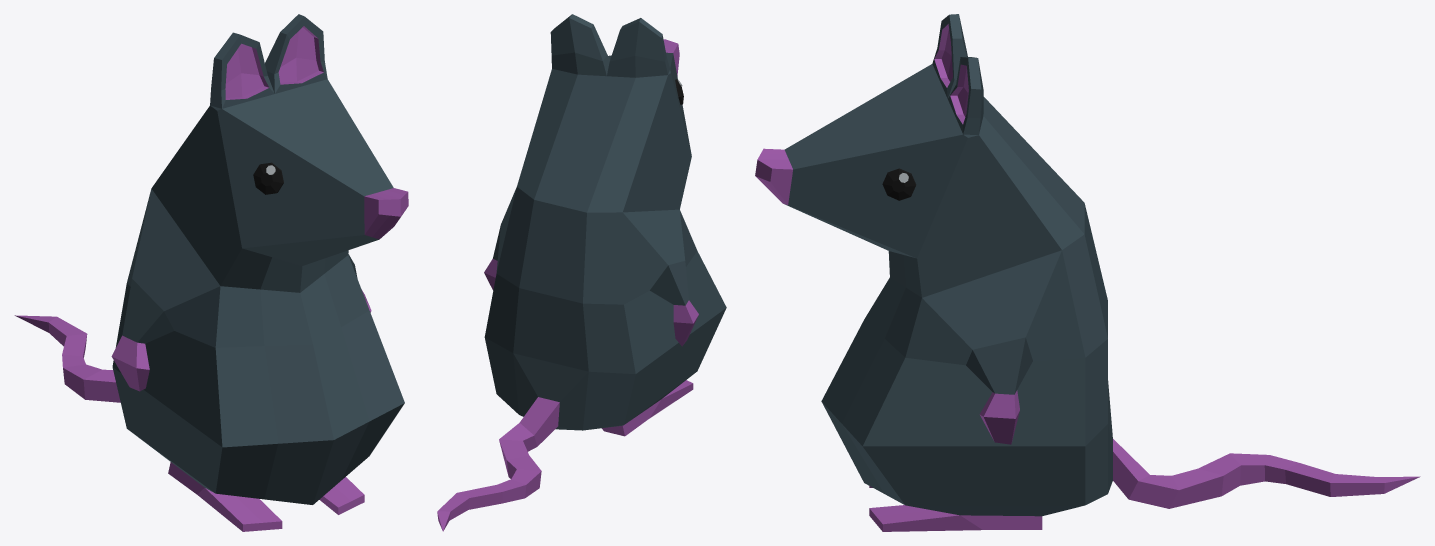
Rendered from Rat_01.fbx.
3 renders of one model, left to right at view 1: azimuth 30°, elevation 25°; view 2: azimuth 150°, elevation 25°; view 3: azimuth 270°, elevation 25°, orthographic. The views are drawn at different scales.
Parts seen in each view (by area): view 1: Rat_01; view 2: Rat_01; view 3: Rat_01.
Part boxes in pixels (x1,y1,x2,y2): Rat_01: (14, 14, 408, 531); Rat_01: (437, 14, 726, 531); Rat_01: (755, 14, 1420, 531).
Size of the model in its own units: 3.17 by 5.57 by 7.11.
